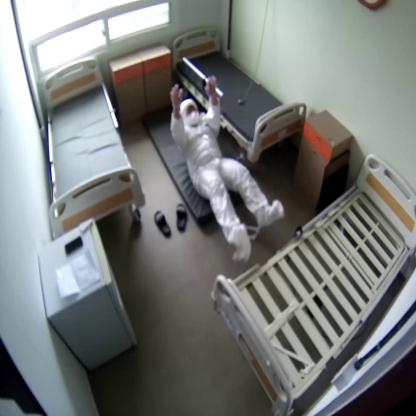Bed: (172, 27, 304, 155)
Person: (171, 78, 281, 244)
